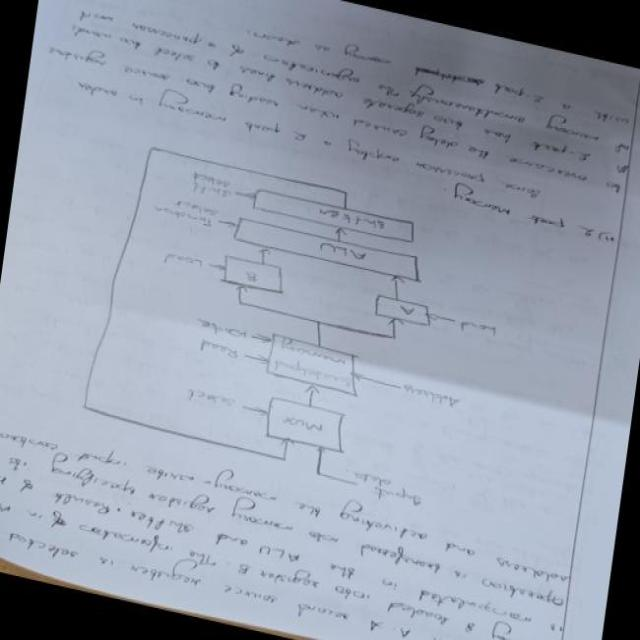Figure Detection - v3 Dataset Version2: (39, 121, 534, 539)
